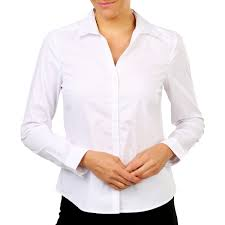C_shirt: (20, 14, 206, 211)
